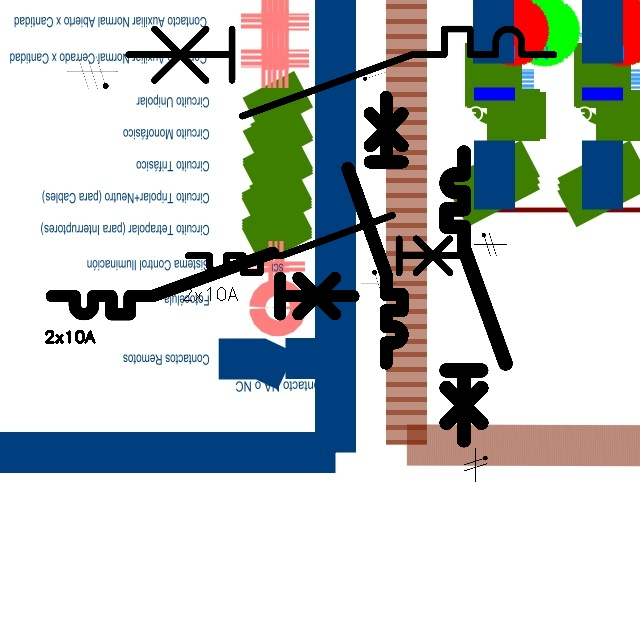interruptor_termomagnetico: (117, 18, 564, 127), (44, 245, 361, 322), (439, 145, 513, 448), (181, 208, 474, 280), (341, 90, 409, 369)
